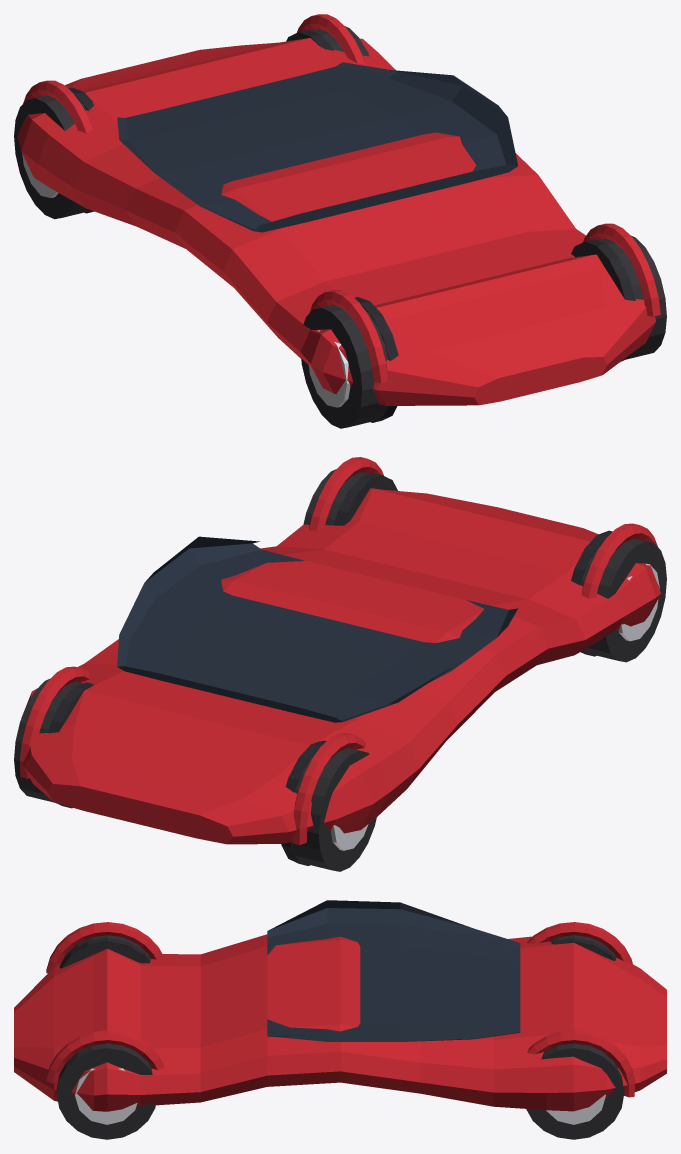
File: super.glb
3 views of the same model, one above another, from view 1: azimuth 30°, elevation 25°; view 2: azimuth 150°, elevation 25°; view 3: azimuth 270°, elevation 25° (orthographic). The views are drawn at different scales.
Parts seen in each view (by area): view 1: body, glass_canopy, wheel_front_tyre.001, wheel_rear_tyre.001, wheel_front_tyre, body_arch.001, body_arch, body_arch.003, body_arch.002, wheel_front_well, wheel_front_well.001, wheel_front_rim.001; view 2: body, glass_canopy, wheel_rear_tyre.001, wheel_front_tyre.001, body_arch.003, body_arch.002, wheel_rear_tyre, body_arch.001, body_arch, wheel_front_tyre, wheel_front_well, wheel_rear_well.001 (+3 smaller); view 3: body, glass_canopy, wheel_front_tyre, wheel_rear_tyre, body_arch, body_arch.001, body_arch.002, body_arch.003, wheel_front_tyre.001, wheel_front_rim, wheel_rear_rim, wheel_front_well.001 (+1 smaller).
Boxes of the visible parts, <box> form: body: <box>17,38,655,405</box>; glass_canopy: <box>117,62,518,232</box>; wheel_front_tyre.001: <box>301,305,388,428</box>; wheel_rear_tyre.001: <box>14,95,91,219</box>; wheel_front_tyre: <box>571,235,666,359</box>; body_arch.001: <box>309,290,388,382</box>; body_arch: <box>583,223,660,316</box>; body_arch.003: <box>23,80,92,133</box>; body_arch.002: <box>297,14,365,64</box>; wheel_front_well: <box>571,239,635,361</box>; wheel_front_well.001: <box>354,297,398,422</box>; wheel_front_rim.001: <box>308,330,350,407</box>; body: <box>21,488,660,844</box>; glass_canopy: <box>117,536,517,722</box>; wheel_rear_tyre.001: <box>291,748,376,871</box>; wheel_front_tyre.001: <box>580,538,666,662</box>; body_arch.003: <box>292,733,365,845</box>; body_arch.002: <box>20,666,92,778</box>; wheel_rear_tyre: <box>14,678,83,802</box>; body_arch.001: <box>581,523,657,598</box>; body_arch: <box>309,457,383,530</box>; wheel_front_tyre: <box>303,469,396,525</box>; wheel_front_well: <box>334,473,397,525</box>; wheel_rear_well.001: <box>281,740,326,865</box>; body: <box>14,934,666,1111</box>; glass_canopy: <box>267,900,520,1041</box>; wheel_front_tyre: <box>56,1043,155,1139</box>; wheel_rear_tyre: <box>526,1043,624,1139</box>; body_arch: <box>46,1030,163,1083</box>; body_arch.001: <box>46,922,163,973</box>; body_arch.002: <box>527,1030,634,1097</box>; body_arch.003: <box>527,922,632,963</box>; wheel_front_tyre.001: <box>60,935,150,967</box>; wheel_front_rim: <box>75,1068,137,1124</box>; wheel_rear_rim: <box>546,1094,605,1124</box>; wheel_front_well.001: <box>59,937,150,968</box>.
Bounding box in the file's own units: 2.16 × 0.9066 × 4.26.
